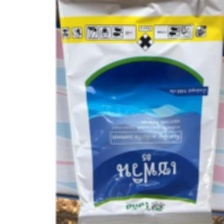insecticide: (55, 0, 224, 224)
